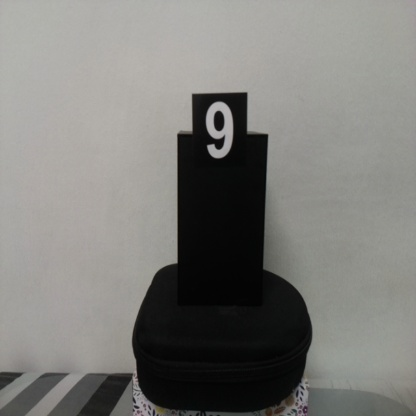id_9: (191, 92, 248, 181)
